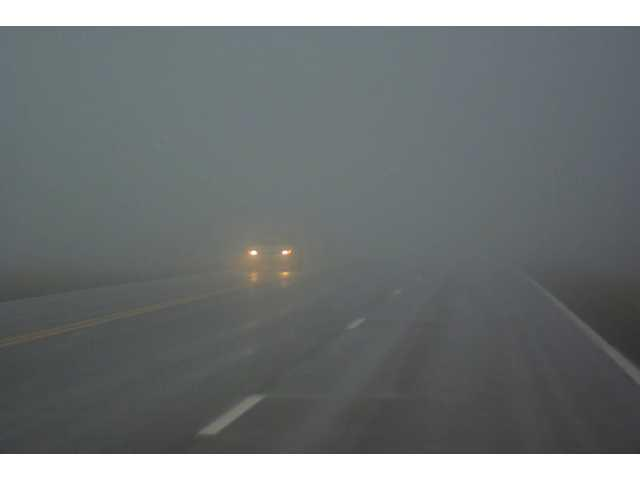car: (241, 231, 305, 275)
